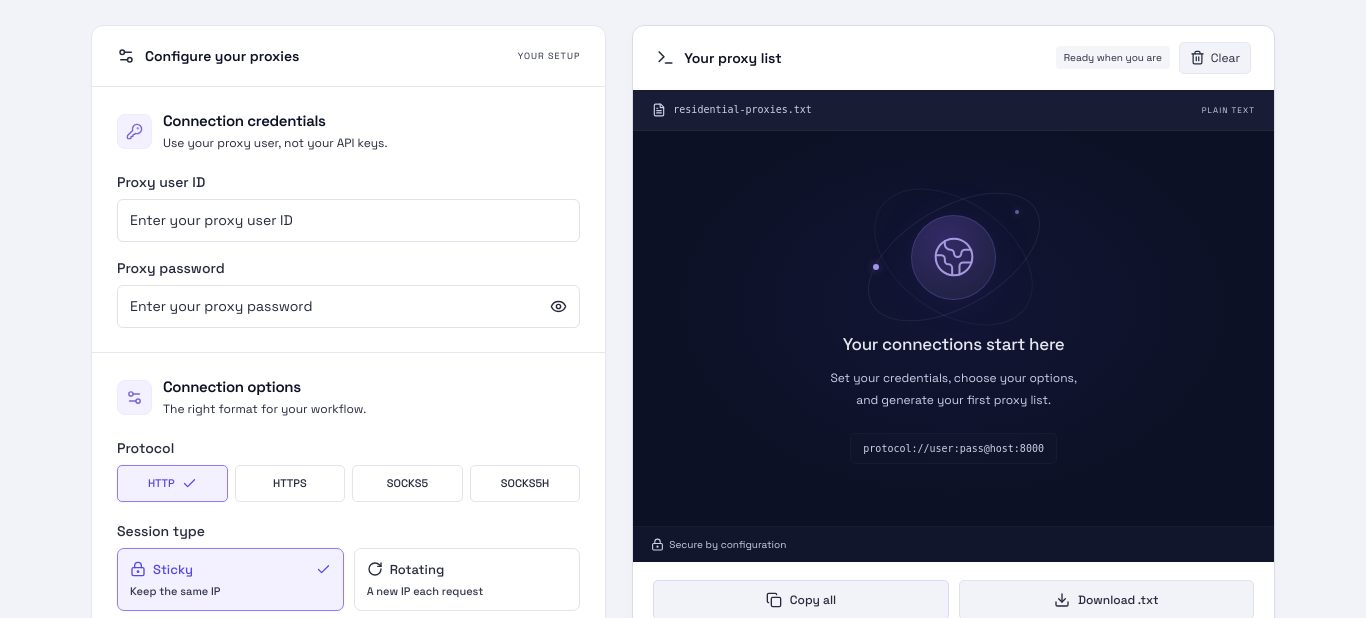
Scenario: generator user flow › explains an empty quantity when submitting with credentials
This screenshot has width=1366, height=618.
Type "alice" into the field labelled "Proxy user ID" at (349, 220), box x1=117 y1=199 x2=580 y2=242
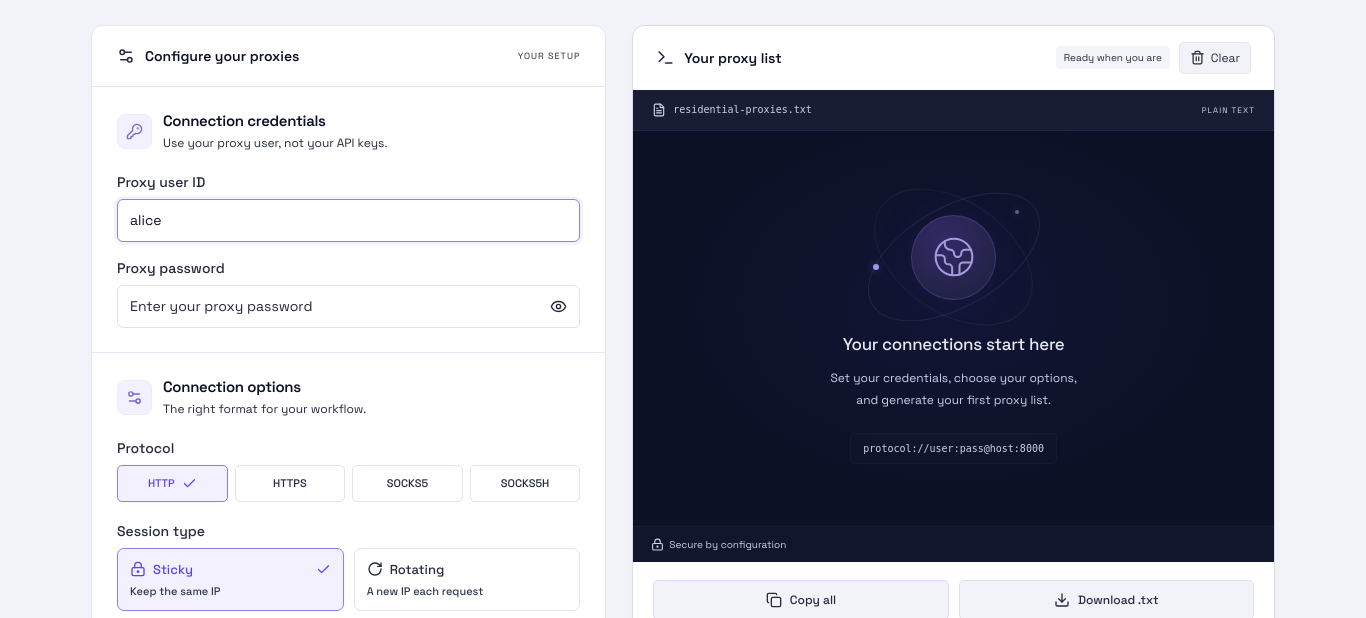
Type "secret" into the password field labelled "Proxy password" at (349, 306), box x1=117 y1=285 x2=580 y2=328
(page scrolled)
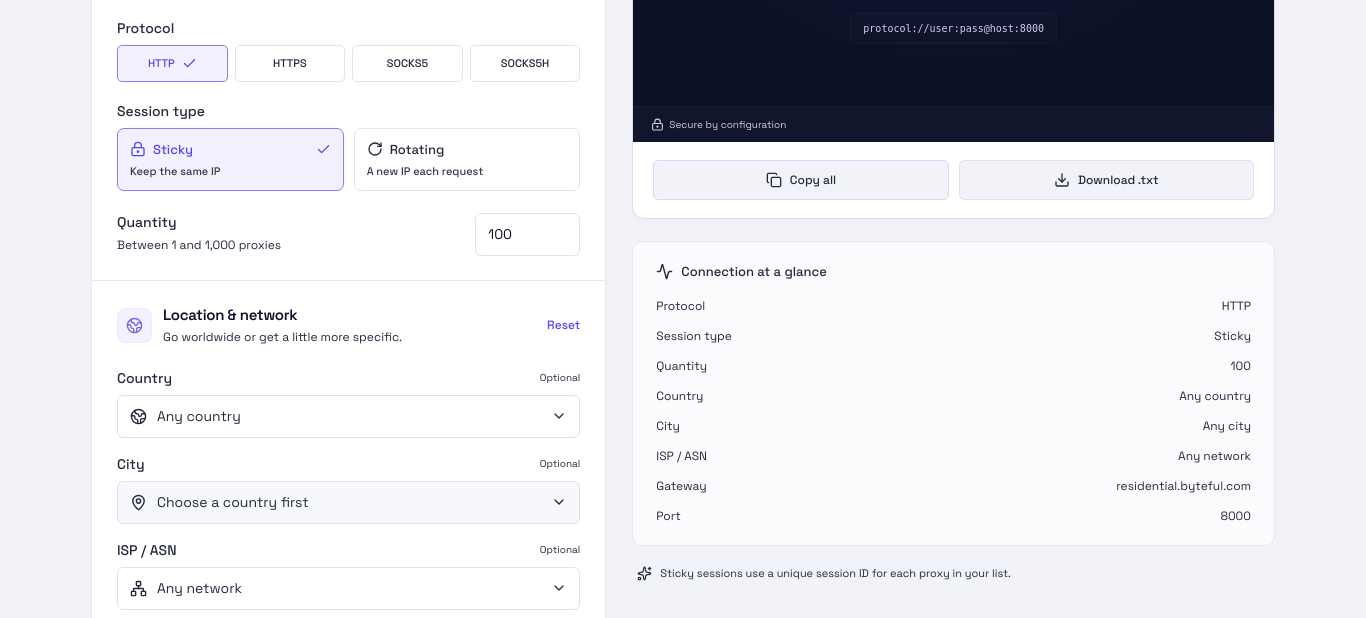
Clear the number field labelled "Quantity" at (528, 234), box x1=475 y1=213 x2=580 y2=256
(page scrolled)
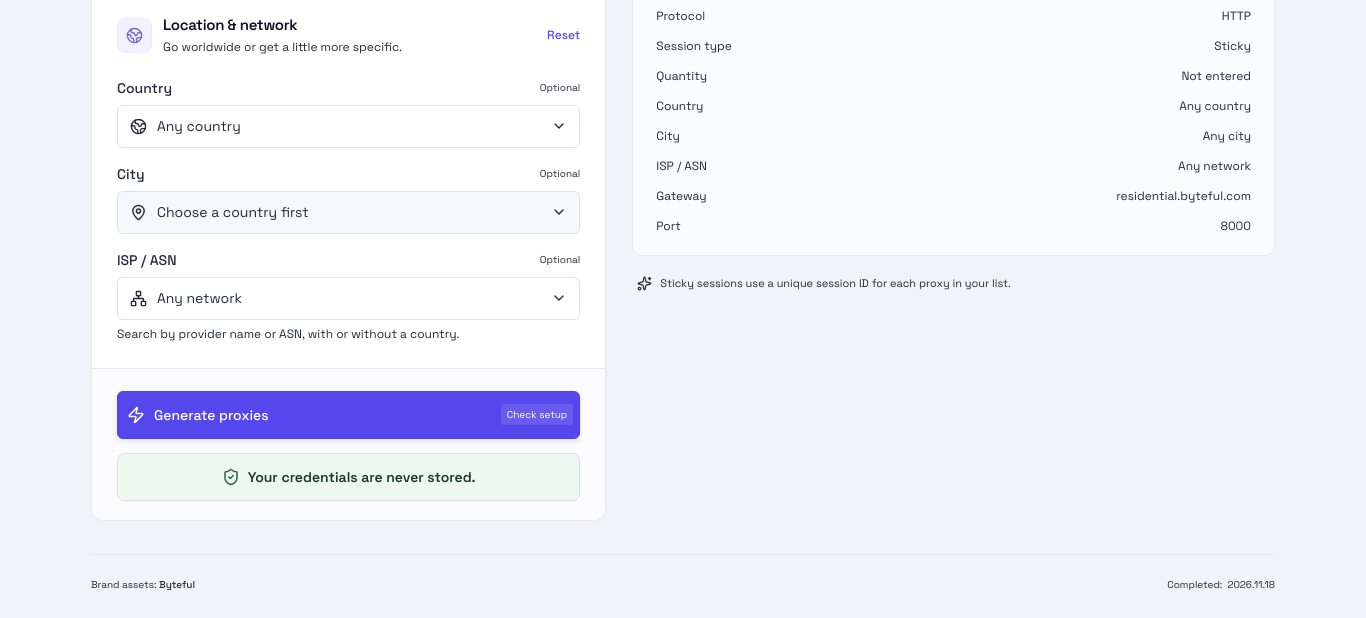
Click the button "Generate proxies Check setup" at (211, 415), box x1=117 y1=391 x2=580 y2=439
(page scrolled)
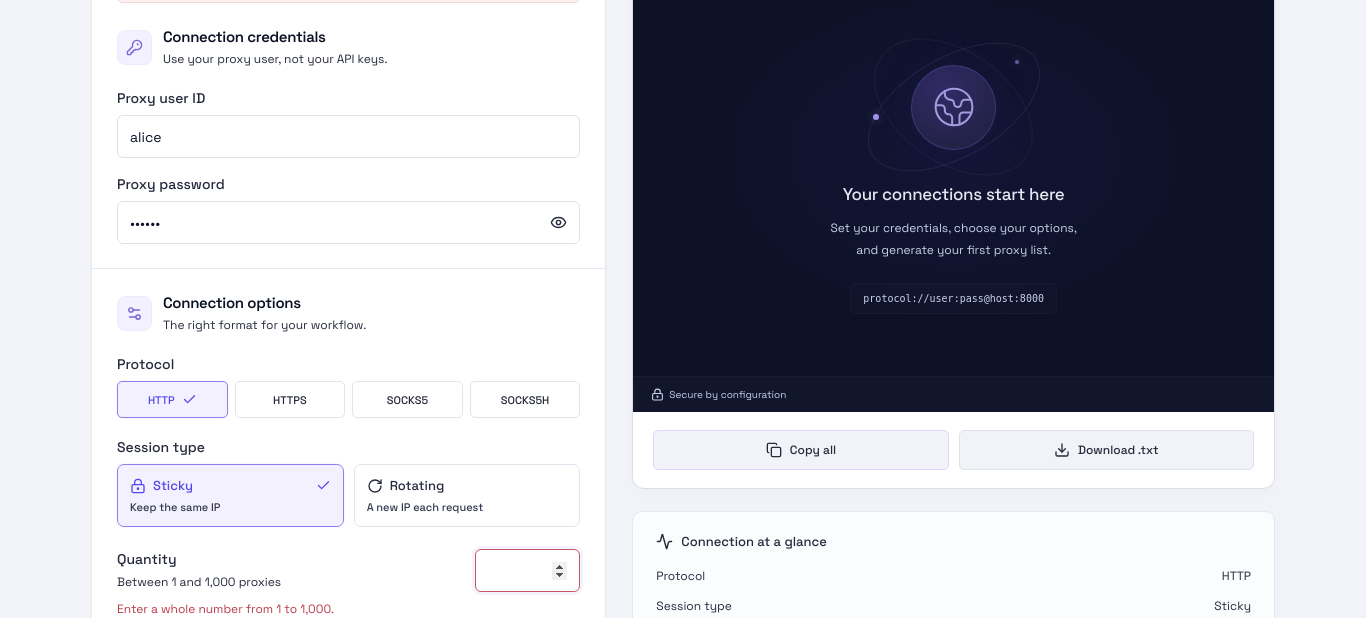
expect the text "Enter a whole number from 1 to 1,000." is shown: met, box x1=117 y1=601 x2=334 y2=617
